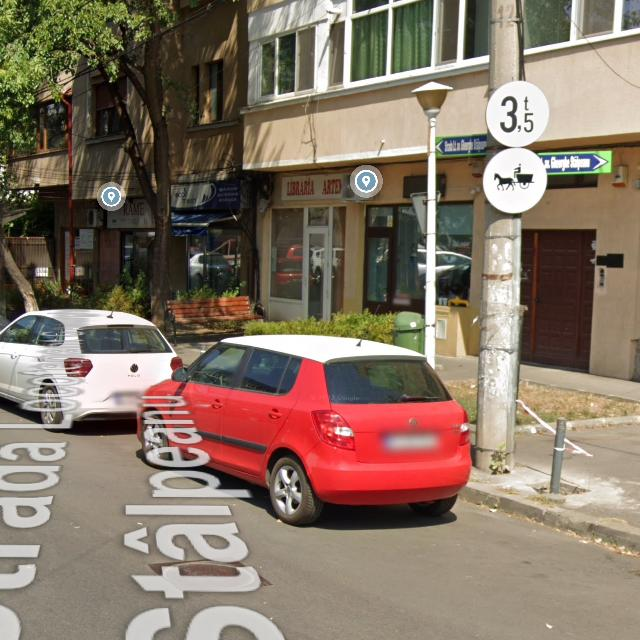forb_weight_over_3.5t: (486, 80, 550, 148)
